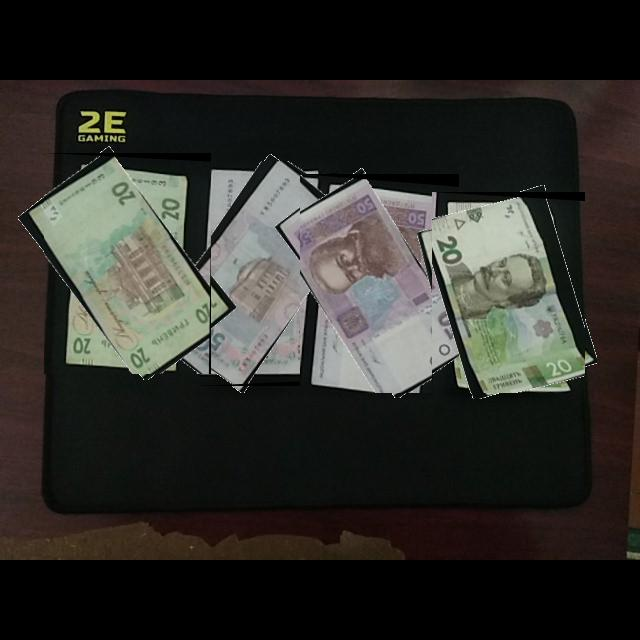20uah: (44, 153, 212, 375), (432, 192, 586, 394)
50uah: (173, 161, 339, 387), (300, 174, 460, 394)
